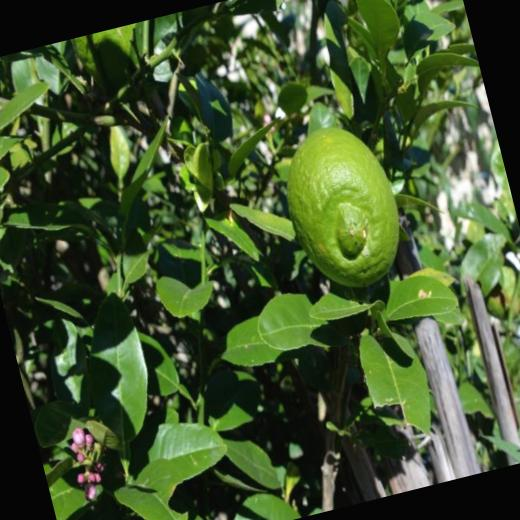Grape: (263, 110, 419, 300), (478, 263, 520, 321)
